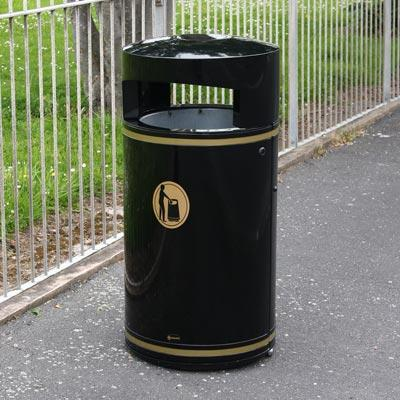trash bin: (100, 32, 297, 372)
